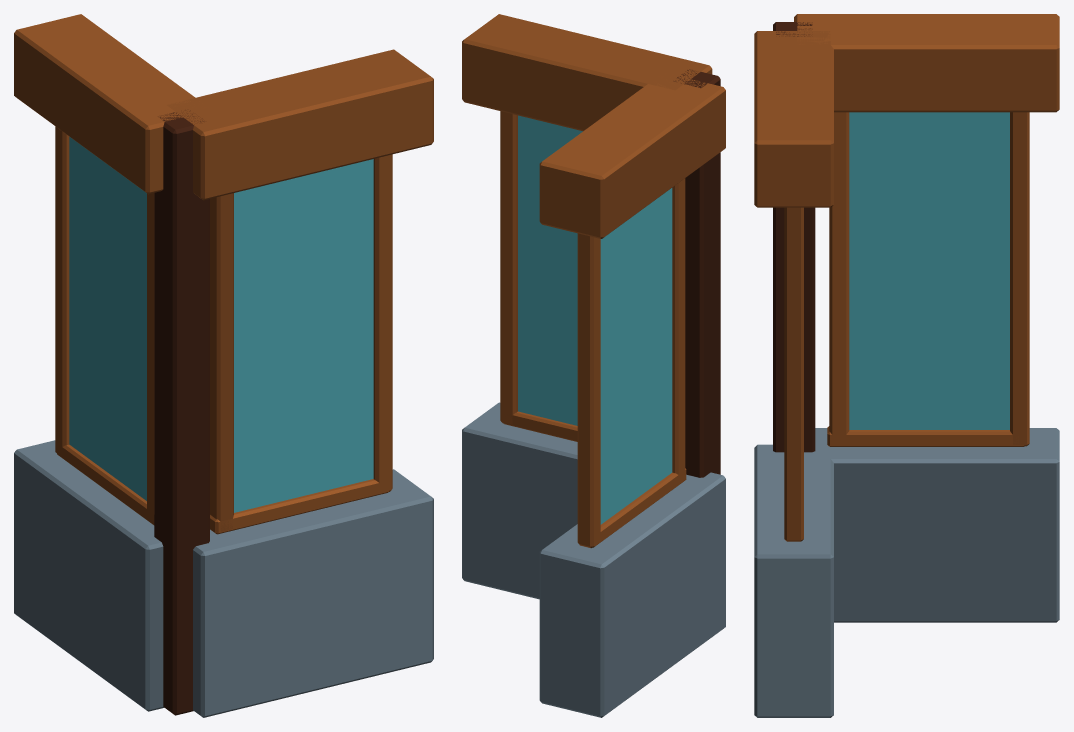
Rendered from EH_CornerWindow_1m.fbx.
3 views of the same model, side by side, from view 1: azimuth 30°, elevation 25°; view 2: azimuth 150°, elevation 25°; view 3: azimuth 270°, elevation 25° (orthographic). The views are drawn at different scales.
Visible parts, largest first — view 1: EH_CornerWindow_1m; view 2: EH_CornerWindow_1m; view 3: EH_CornerWindow_1m.
Boxes of the visible parts, x1,y1,x2,y2 form: EH_CornerWindow_1m: (14, 14, 433, 717); EH_CornerWindow_1m: (462, 14, 725, 717); EH_CornerWindow_1m: (754, 14, 1059, 717).
Bounding box in the file's own units: 1.15 × 2.4 × 1.15.
